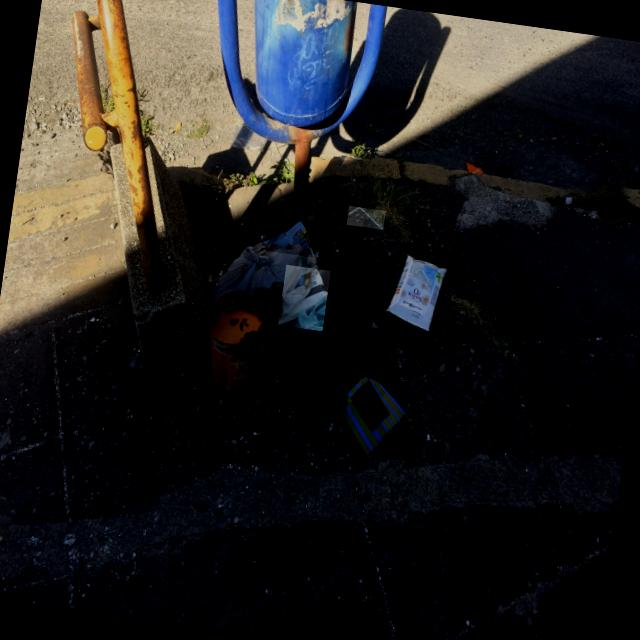Food Carton: (345, 376, 405, 456), (385, 255, 447, 331)
Other can: (207, 291, 264, 394)
Other plastic bottle: (466, 162, 483, 175)
Plastic film: (278, 269, 328, 325), (262, 222, 313, 257)
Single-use carrier bag: (208, 242, 318, 326), (289, 293, 362, 401)
Straw: (348, 208, 382, 230)
